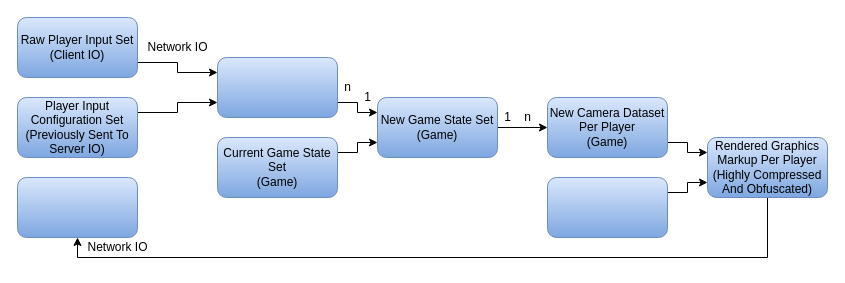
Image size: 845x283. Some labels were removed from this diagram. Each missing label, with the box of its shape:
Drawn Game Screen Per Player (Client IO): (16, 176, 138, 238)
Game Command Set Per Player (Server IO): (216, 56, 338, 118)
Player Graphics Configuration Set (Previously Sent To Server IO): (546, 176, 668, 238)
